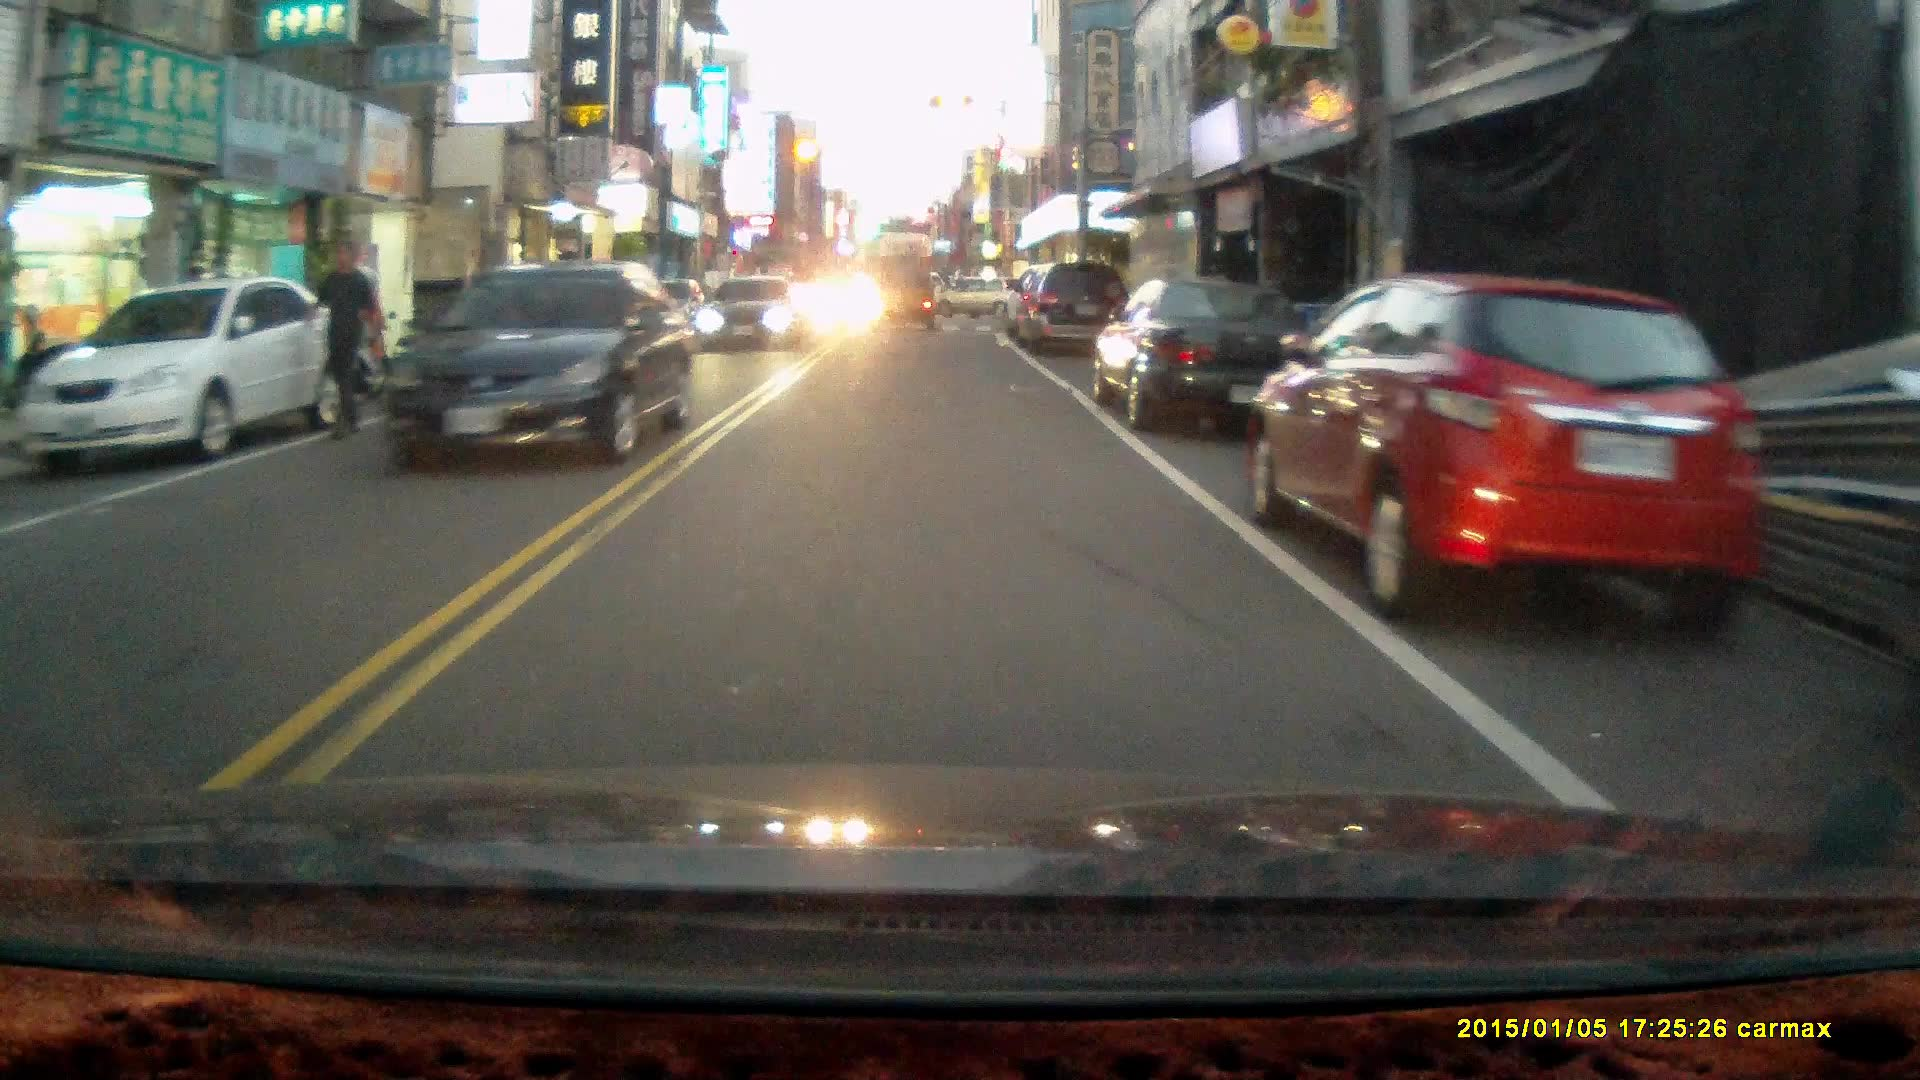pedestrian: (300, 237, 381, 442)
vehicle: (1248, 270, 1771, 644), (367, 263, 696, 477), (20, 276, 346, 479), (1091, 282, 1327, 438), (1007, 266, 1137, 363), (702, 283, 801, 360), (869, 261, 940, 341)
